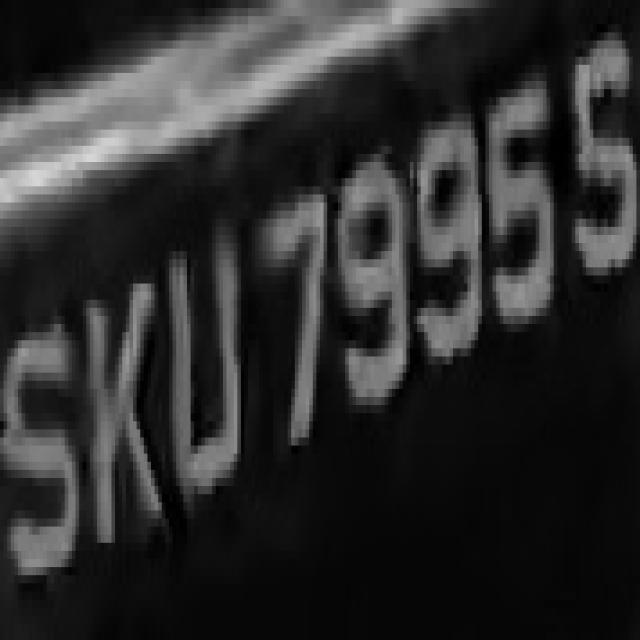5: (478, 73, 561, 356)
7: (248, 170, 334, 462)
9: (406, 97, 493, 389), (327, 146, 417, 421)
K: (79, 235, 158, 567)
S: (0, 284, 79, 592), (561, 40, 640, 284)
U: (154, 211, 244, 494)
